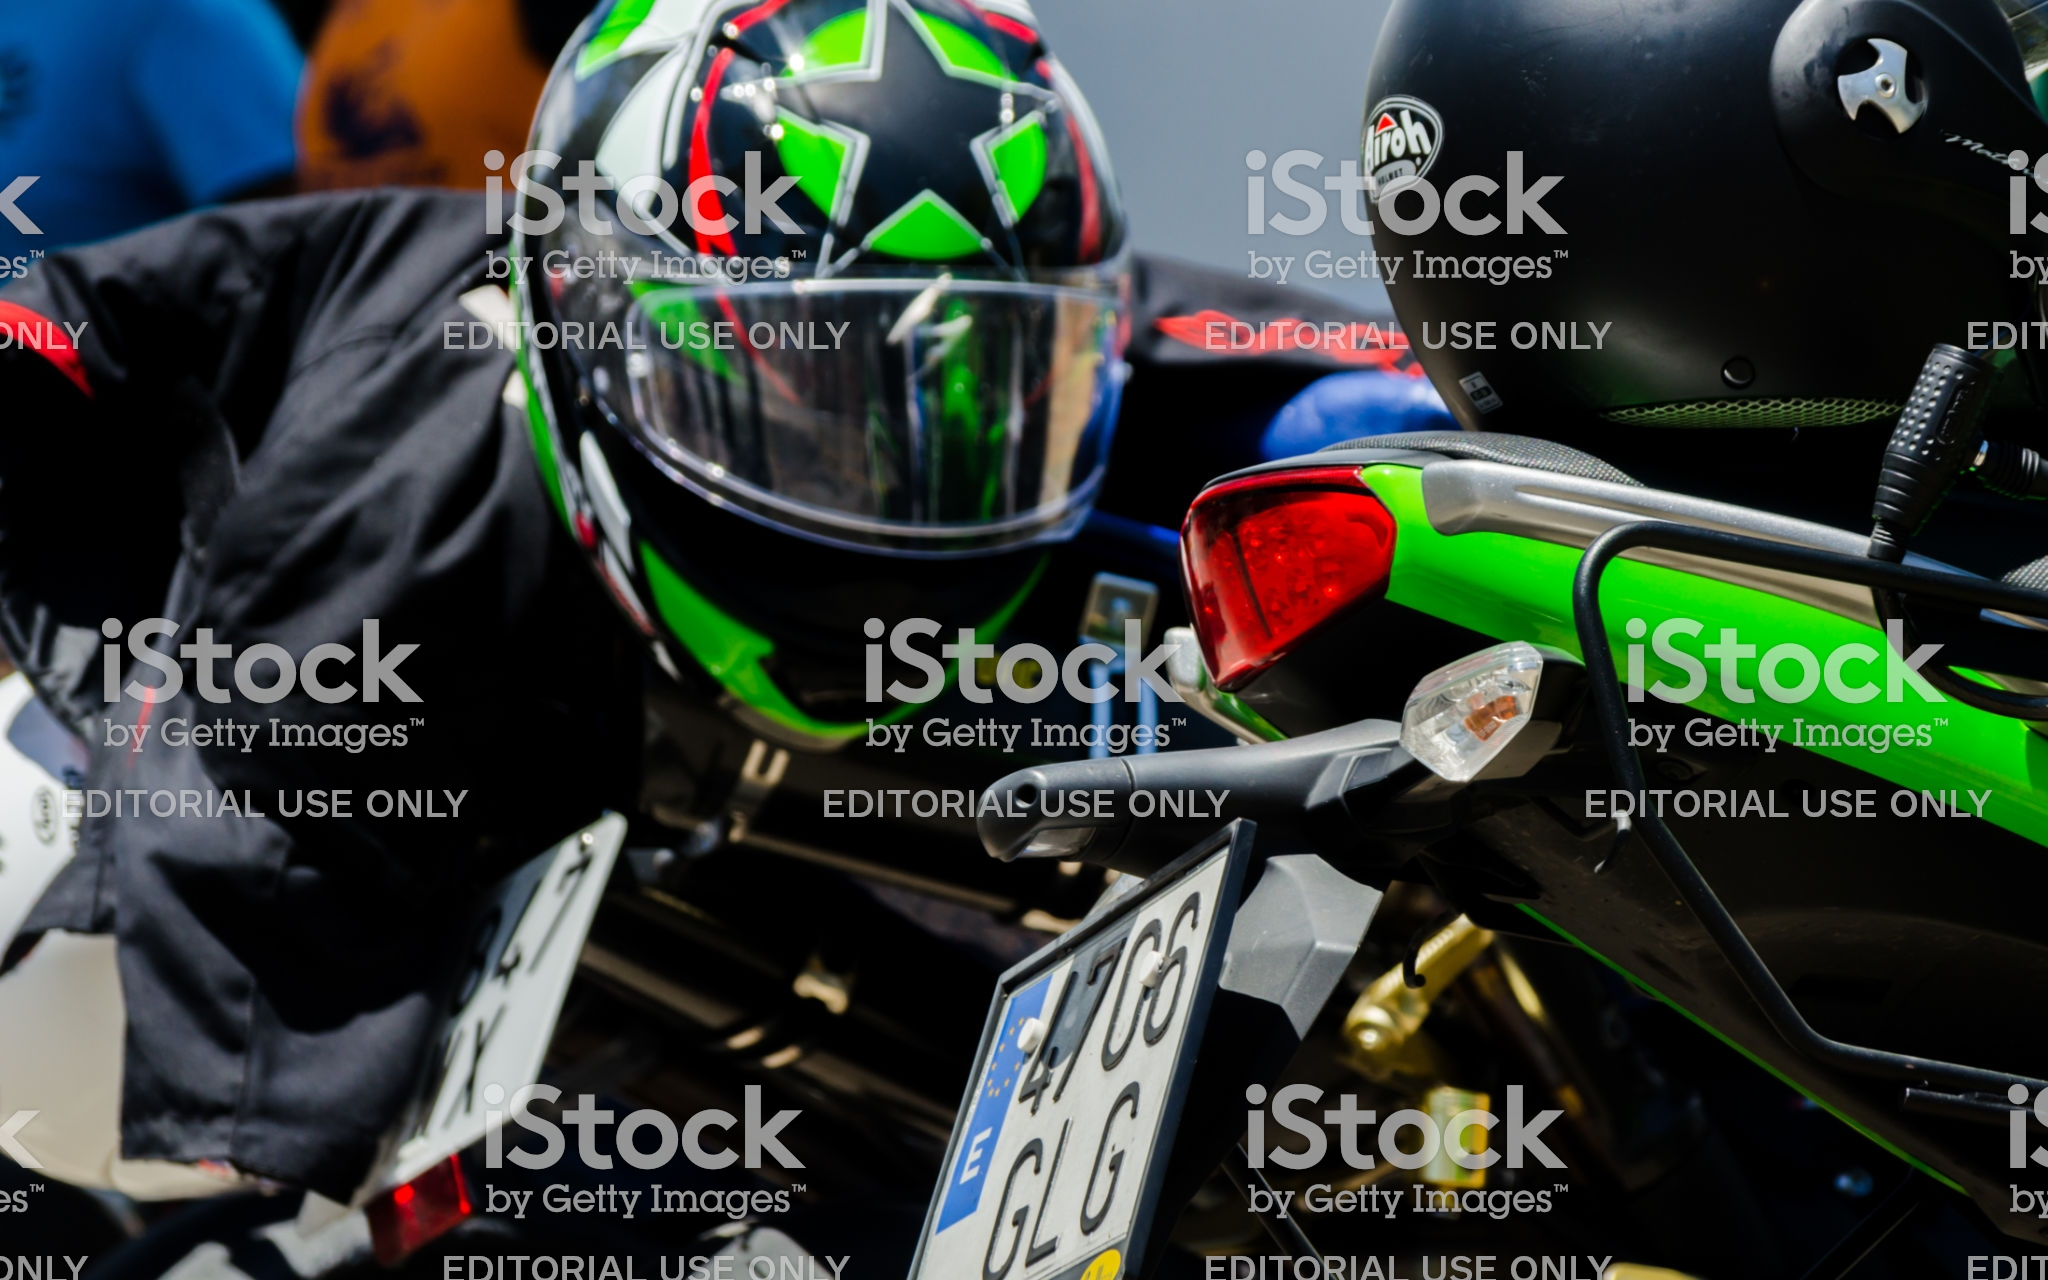helmet: (529, 29, 1175, 730)
